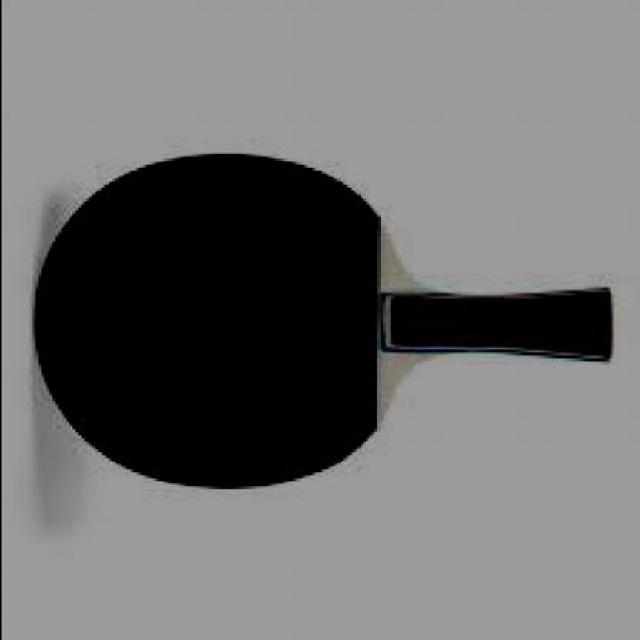table_tennis_racket: (29, 140, 402, 500)
